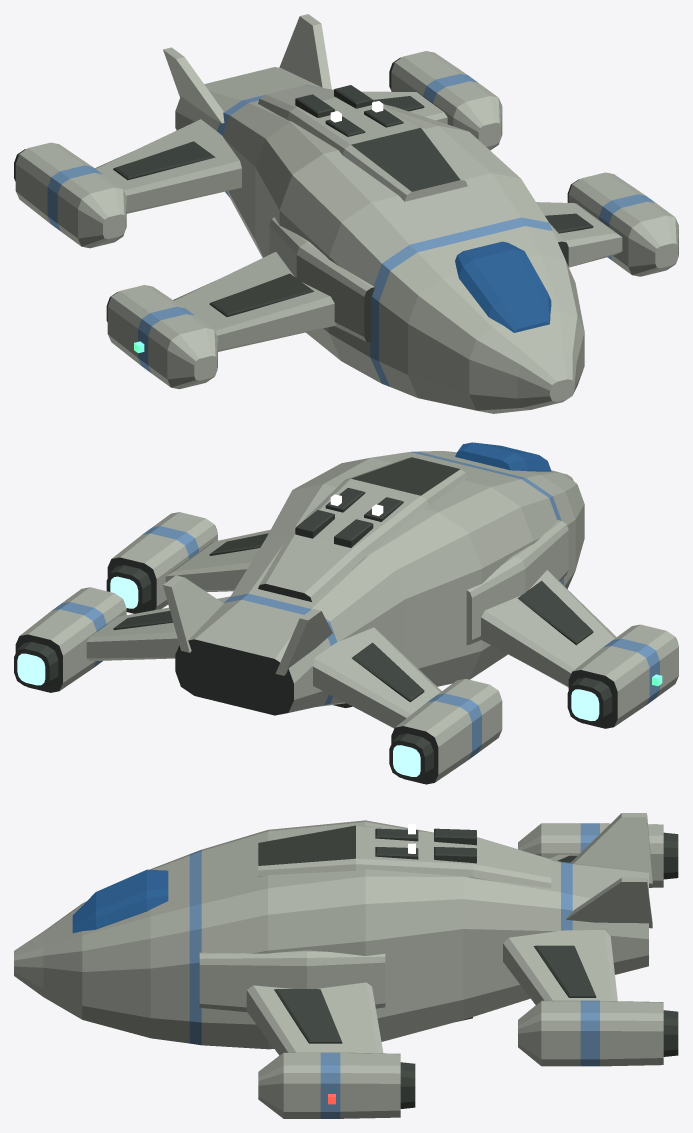
Rendered from alliance-chieftain.glb.
The picture shows the model from 3 angles, top to bottom: view 1: azimuth 30°, elevation 25°; view 2: azimuth 150°, elevation 25°; view 3: azimuth 270°, elevation 25°; orthographic projection. The views are drawn at different scales.
Parts seen in each view (by area): view 1: alliance-chieftain; view 2: alliance-chieftain; view 3: alliance-chieftain.
Part boxes in pixels (x1,y1,x2,y2): alliance-chieftain: [14, 14, 678, 413]; alliance-chieftain: [14, 442, 678, 784]; alliance-chieftain: [14, 813, 678, 1118].
Size of the model in its own units: 60.03 by 21.76 by 68.08.
